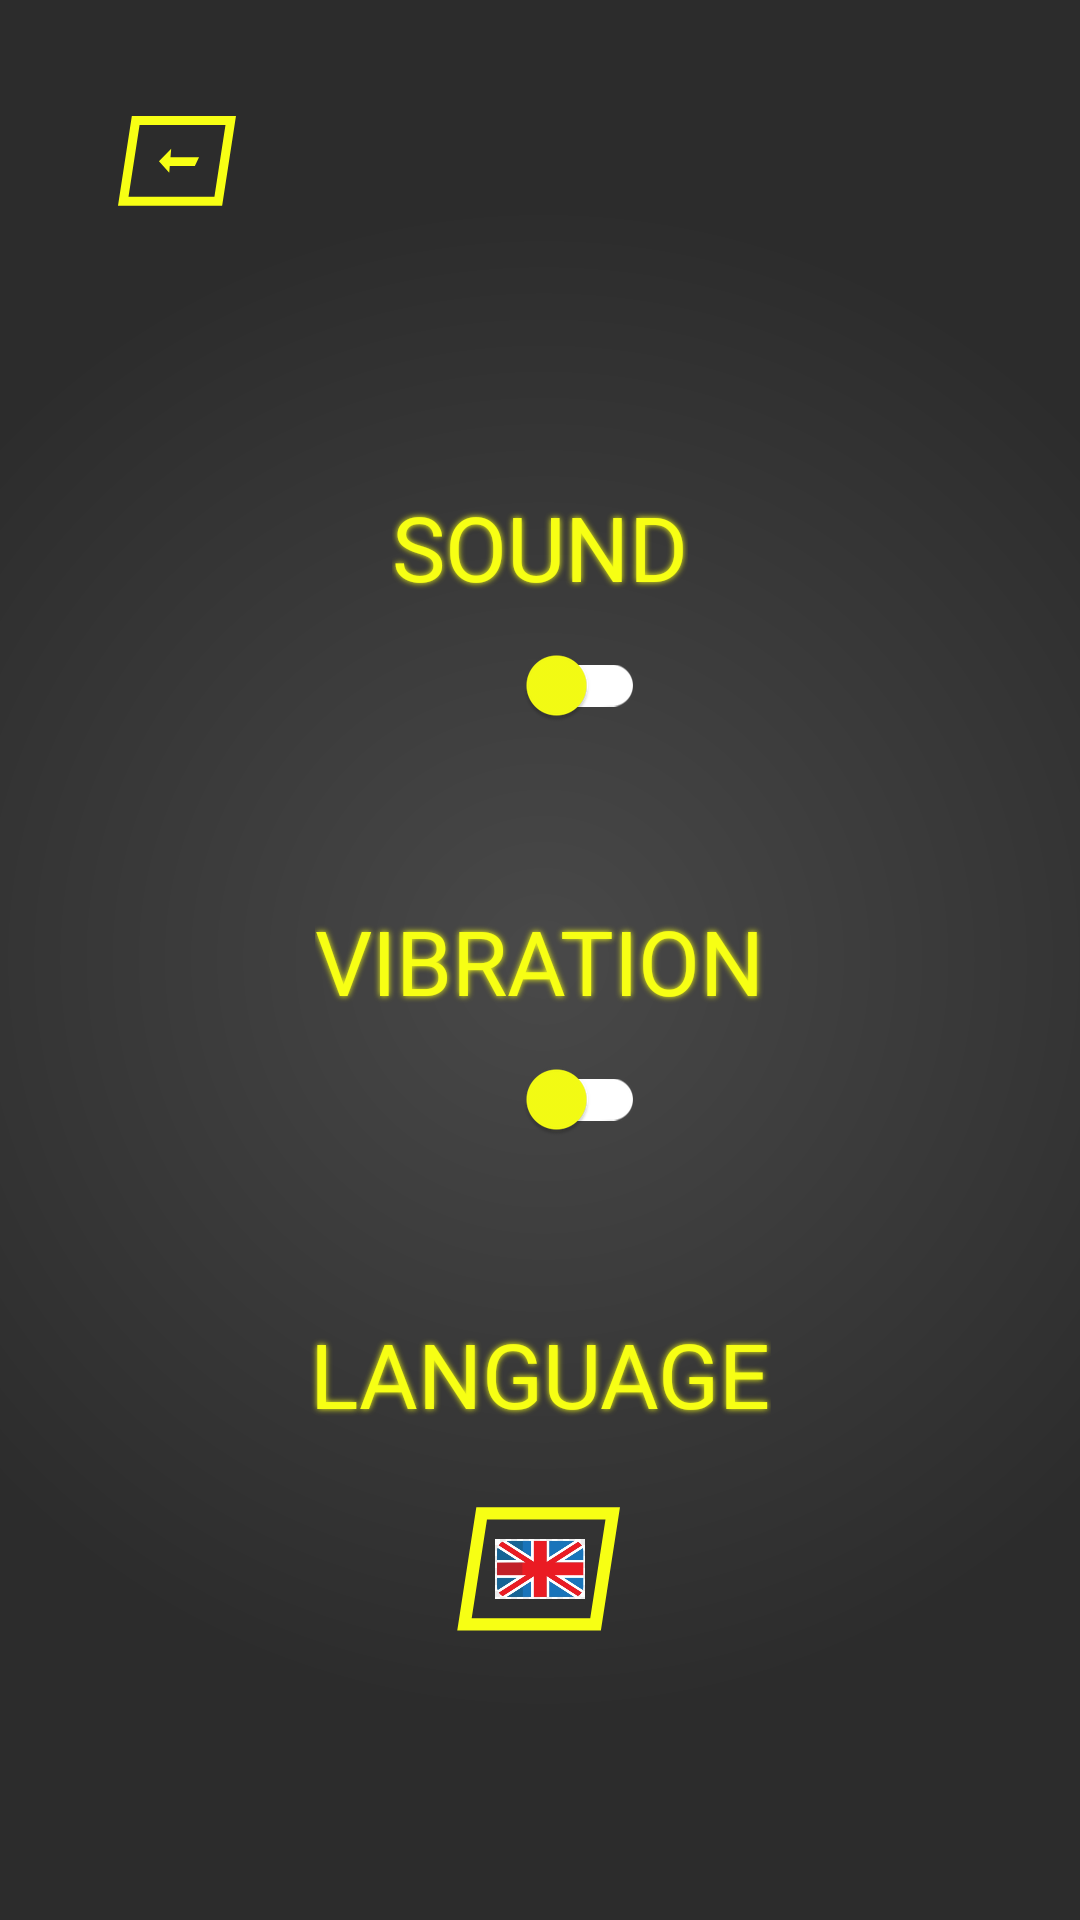

Locate icon controls on the screen. Image size 1080x1920, boxes as (x1, y1, x2, y2).
english: (495, 1539, 585, 1599)
